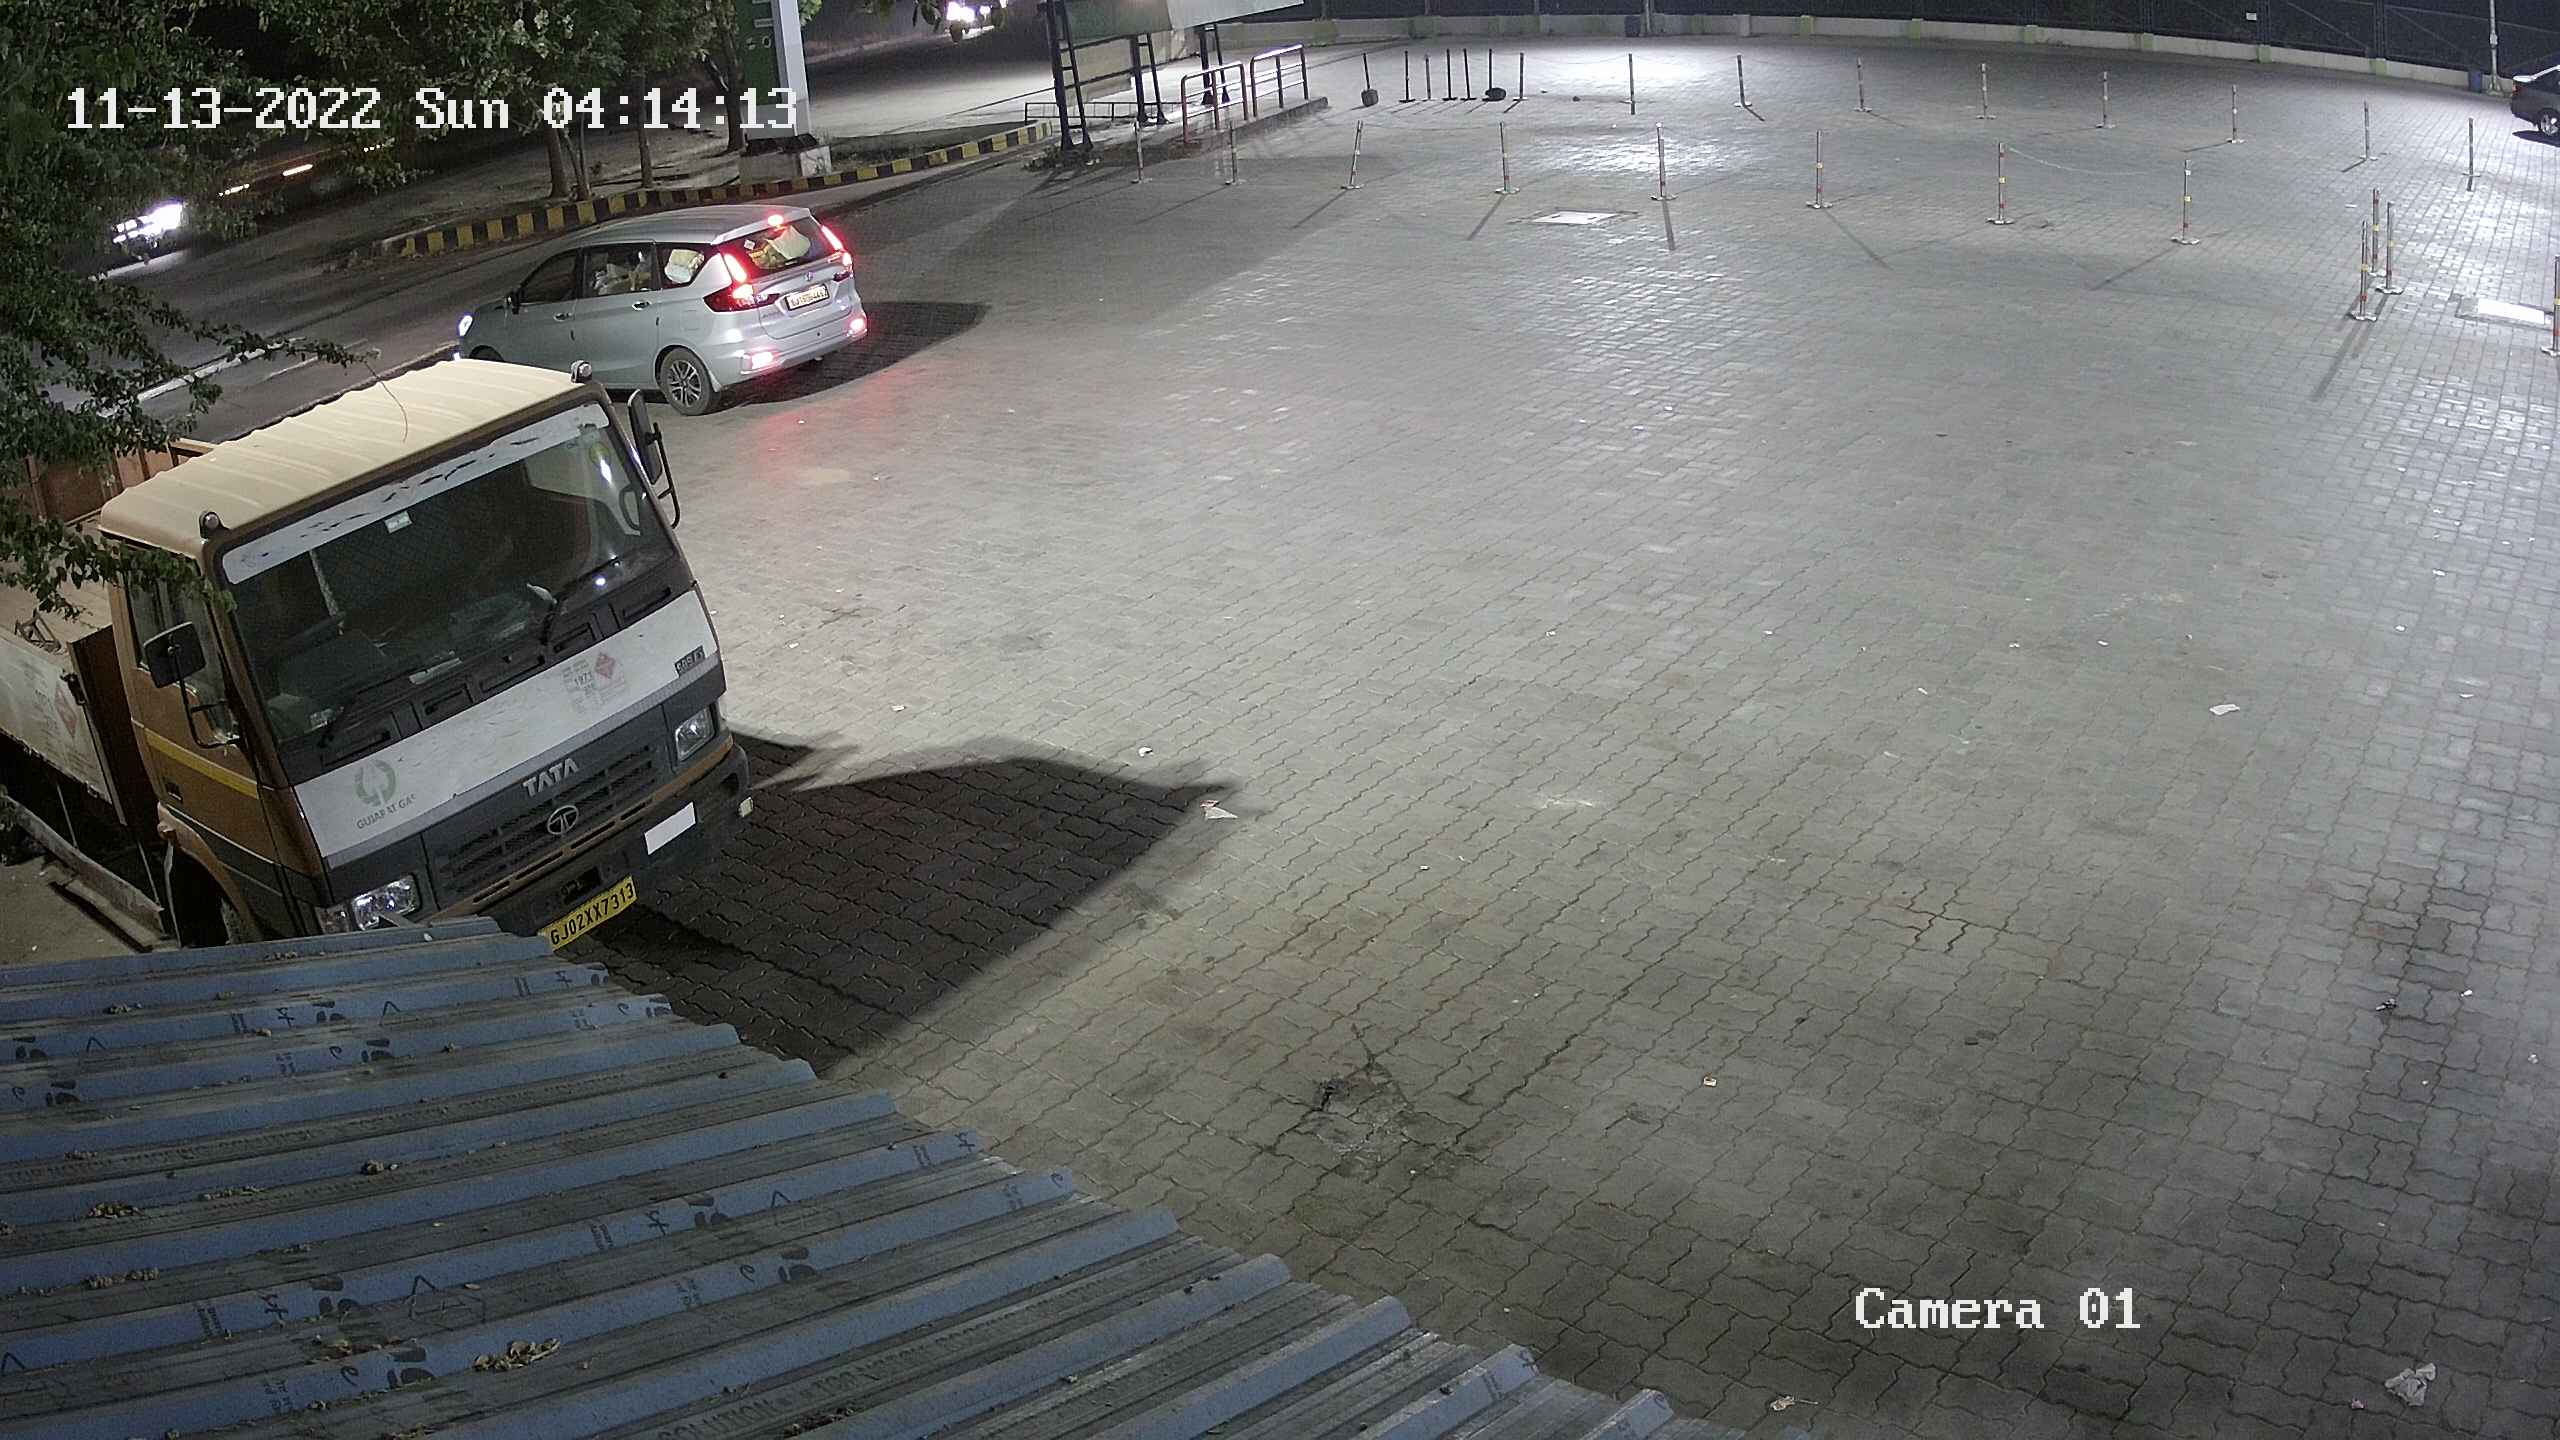Car: (440, 190, 884, 424), (2488, 46, 2558, 156)
HMV: (2, 339, 777, 964)
